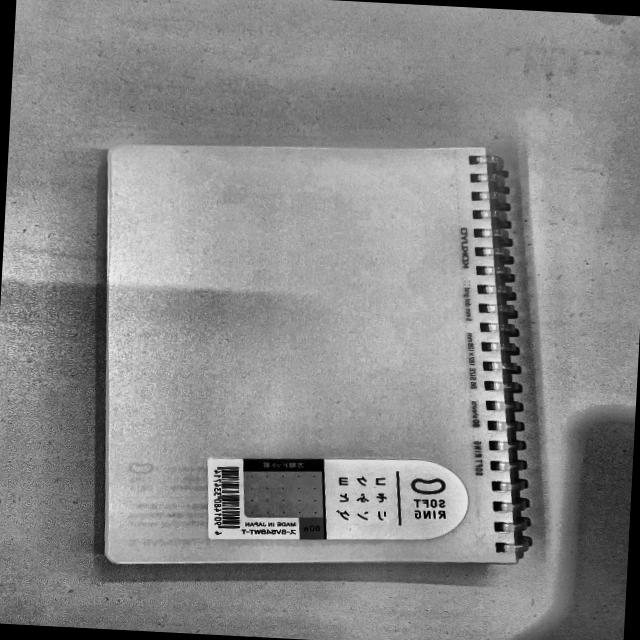Notebook: (57, 92, 570, 598)
